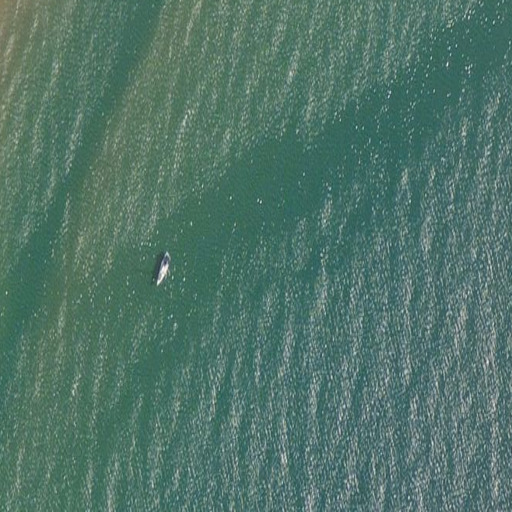ship: (156, 252, 174, 288)
